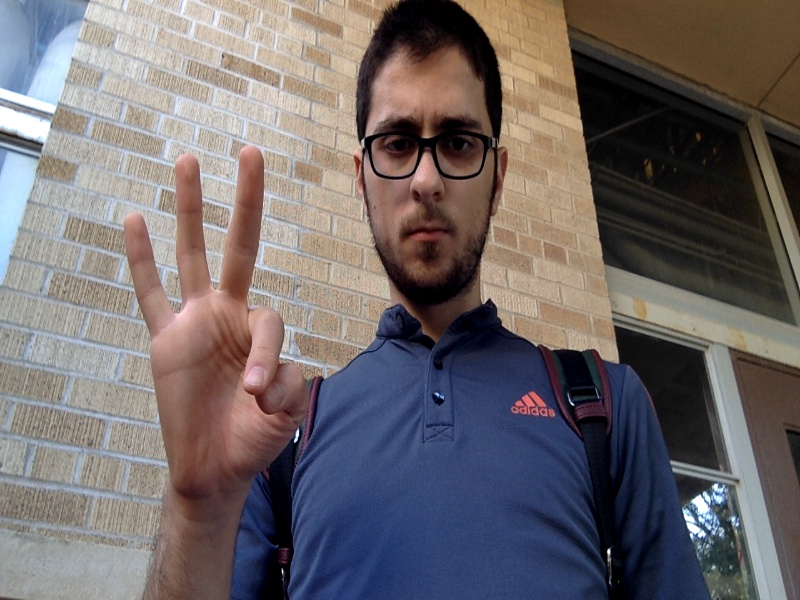3-hand: (125, 147, 304, 494)
